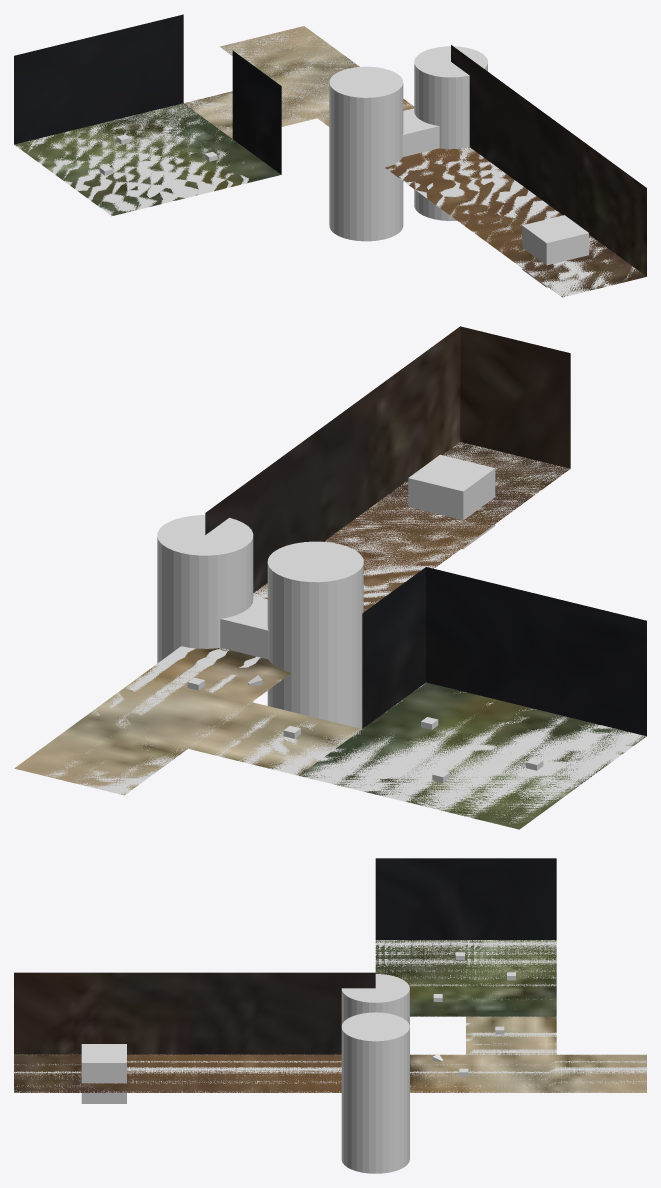
Rendered from staging-1.gltf.
The picture shows the model from 3 angles, top to bottom: view 1: azimuth 30°, elevation 25°; view 2: azimuth 150°, elevation 25°; view 3: azimuth 270°, elevation 25°; orthographic projection. The views are drawn at different scales.
Visible parts, largest first — view 1: Plane.088, Plane.092, Plane.086, Cylinder.001, Plane.090, Plane.089, Plane.087, Cylinder, staging-to-courtyard, Cube.002; view 2: Plane.086, Plane.088, Plane.092, Plane.087, Plane.090, Cylinder.001, Plane.089, Cylinder, staging-to-courtyard, Cube.002; view 3: Plane.086, Plane.088, Plane.087, Plane.090, Plane.089, Cylinder, Plane.092, staging-to-courtyard, Cylinder.001.
Boxes of the visible parts, <box> form: Plane.088: <box>14,14,281,174</box>; Plane.092: <box>15,26,638,296</box>; Plane.086: <box>451,45,646,276</box>; Cylinder.001: <box>329,66,403,241</box>; Plane.090: <box>14,103,280,215</box>; Plane.089: <box>385,147,646,297</box>; Plane.087: <box>184,26,414,138</box>; Cylinder: <box>414,46,487,220</box>; staging-to-courtyard: <box>522,215,588,287</box>; Cube.002: <box>402,108,439,157</box>; Plane.086: <box>205,326,570,592</box>; Plane.088: <box>362,567,646,736</box>; Plane.092: <box>45,442,645,823</box>; Plane.087: <box>14,648,361,795</box>; Plane.090: <box>299,682,646,829</box>; Cylinder.001: <box>267,541,363,728</box>; Plane.089: <box>253,442,569,611</box>; Cylinder: <box>157,515,253,702</box>; staging-to-courtyard: <box>408,454,495,549</box>; Cube.002: <box>220,596,268,659</box>; Plane.086: <box>14,972,375,1054</box>; Plane.088: <box>375,858,556,939</box>; Plane.087: <box>410,1016,646,1092</box>; Plane.090: <box>375,940,556,1016</box>; Plane.089: <box>14,1054,341,1092</box>; Cylinder: <box>341,1012,409,1173</box>; Plane.092: <box>14,940,646,1092</box>; staging-to-courtyard: <box>81,1044,126,1103</box>; Cylinder.001: <box>341,974,409,1026</box>.
Bounding box in the file's own units: 87.56 × 36.2 × 140.
3 materials, 3 textured.
